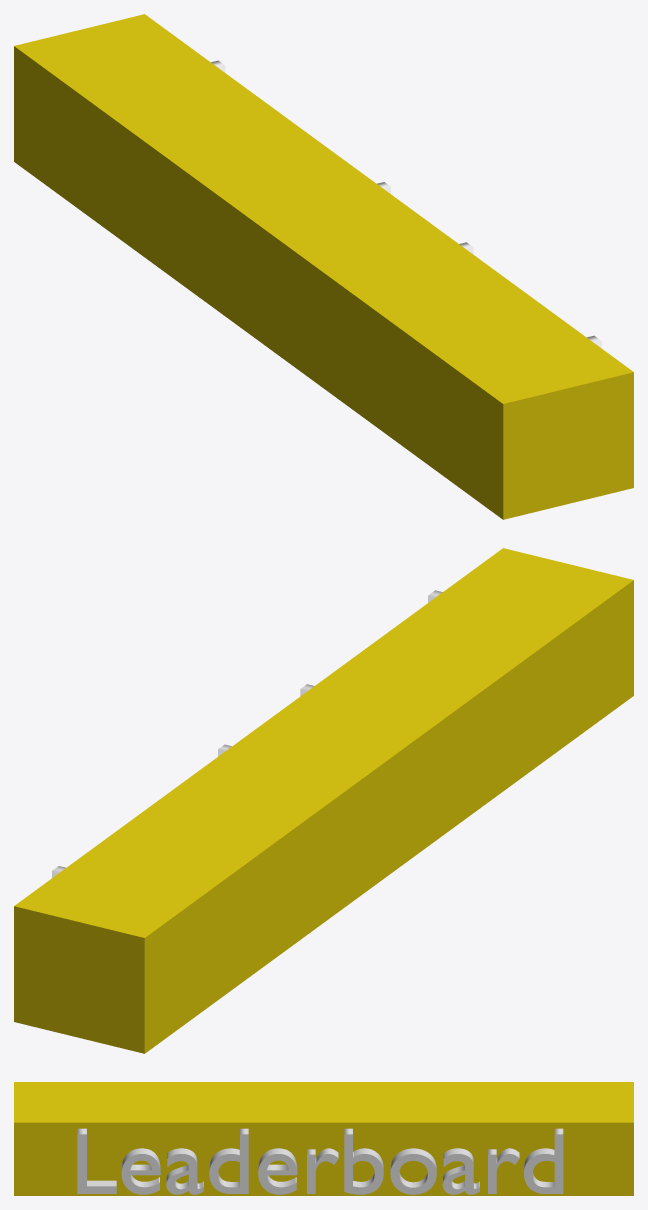
File: Leaderboard.fbx
3 views of the same model, one above another, from view 1: azimuth 30°, elevation 25°; view 2: azimuth 150°, elevation 25°; view 3: azimuth 270°, elevation 25° (orthographic). The views are drawn at different scales.
Parts seen in each view (by area): view 1: Cube; view 2: Cube; view 3: Cube, Text.
Part boxes in pixels (<box>): Cube: <box>14,14,633,519</box>; Cube: <box>14,548,633,1053</box>; Cube: <box>14,1082,633,1195</box>; Text: <box>77,1128,563,1194</box>.
Size of the model in its own units: 49.64 by 36.96 by 283.
